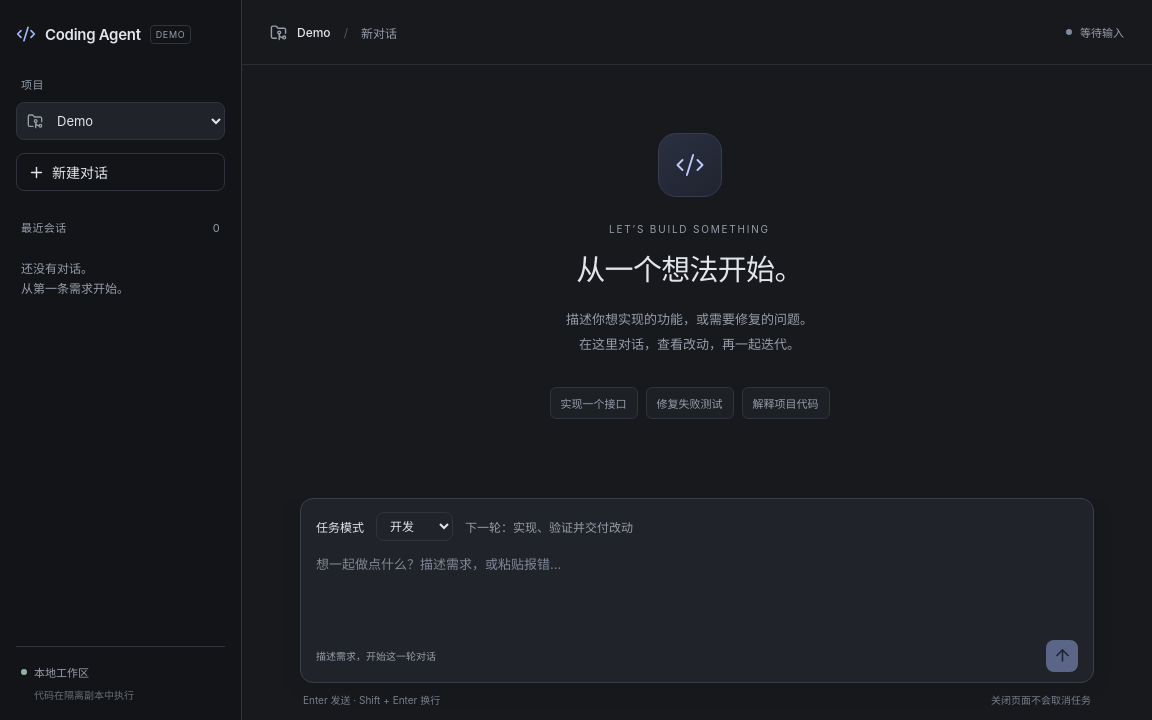
chat MVP › preserves a failed draft and reuses its idempotency key on retry
Type "fix tests" into the text box named "任务需求" at (697, 590), box 316,552 -> 1078,628
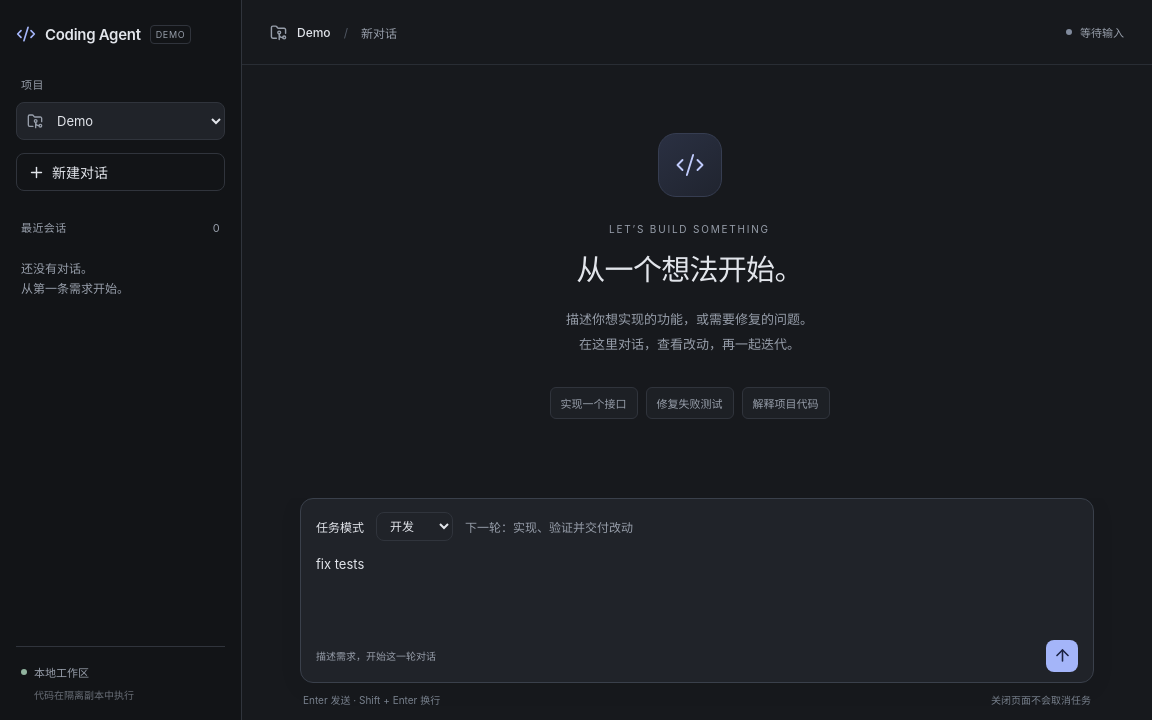
Click the button named "发送" at (1062, 656), box 1046,640 -> 1078,672
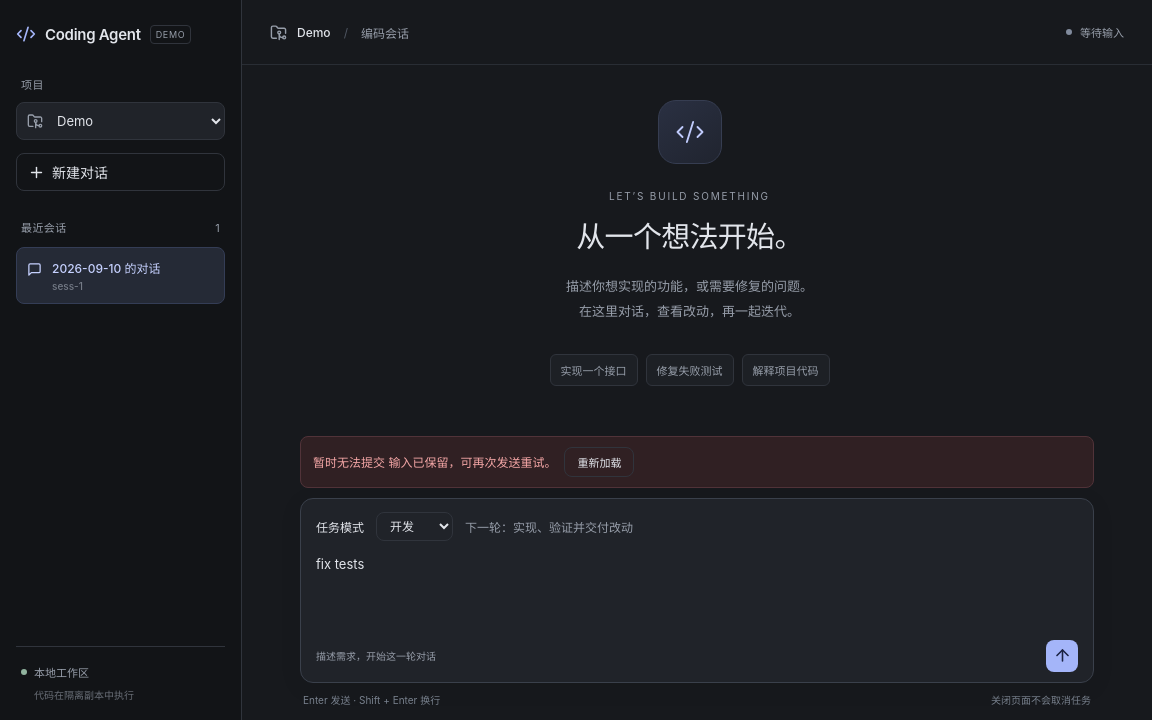
Check: the message "暂时无法提交 输入已保留，可再次发送重试。 重新加载" is shown, box 300,436 -> 1094,488
Click the button named "发送" at (1062, 656), box 1046,640 -> 1078,672
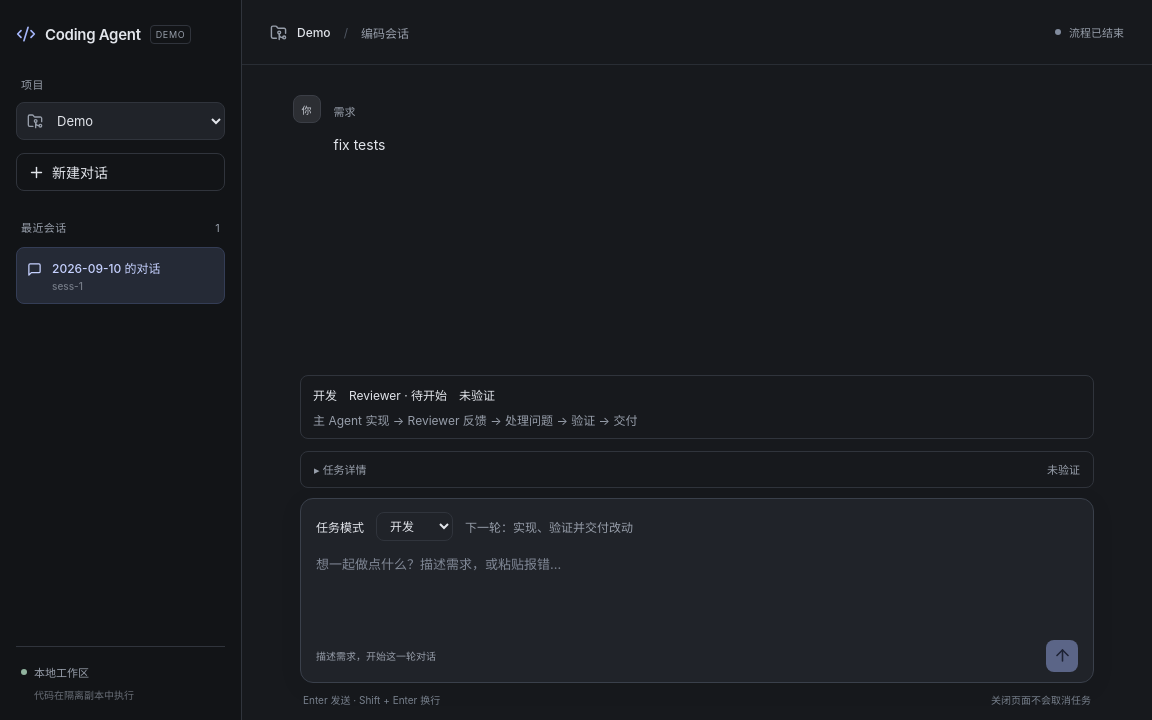
Check: the text "流程已结束" is shown, box 1055,24 -> 1124,40
